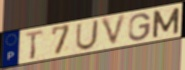7: (50, 24, 72, 57)
G: (128, 12, 153, 43)
M: (151, 6, 182, 39)
T: (24, 28, 45, 60)
U: (74, 18, 101, 51)
V: (99, 13, 129, 49)
